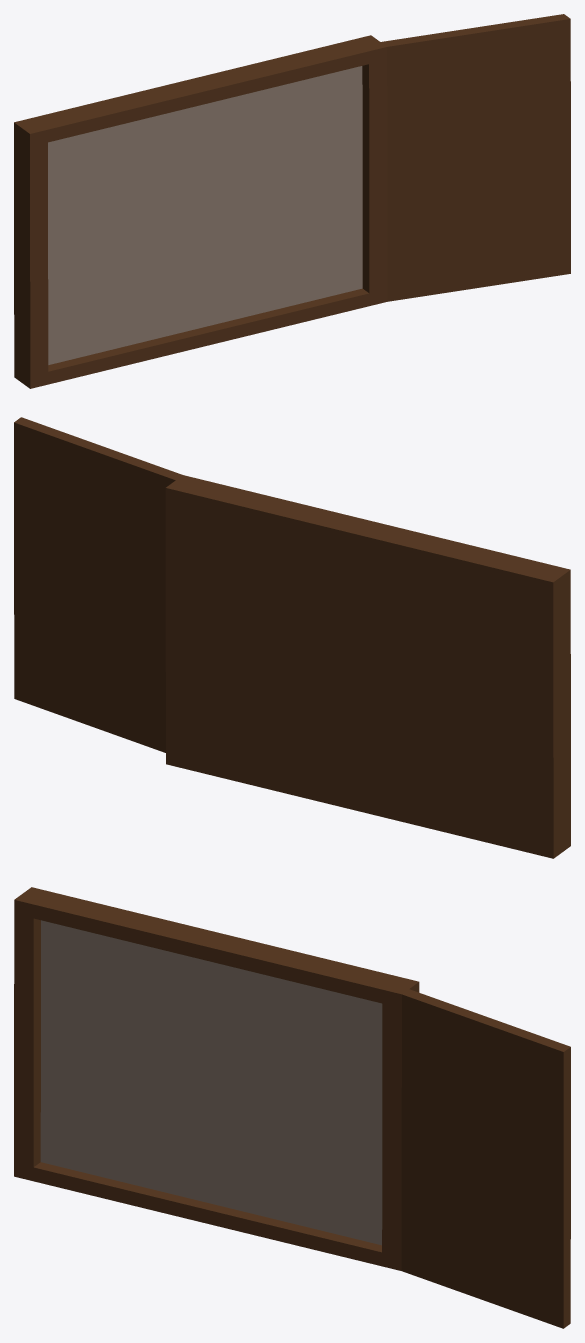
Rendered from Cuadro_3x2.fbx.
3 renders of one model, top to bottom at view 1: azimuth 30°, elevation 25°; view 2: azimuth 150°, elevation 25°; view 3: azimuth 330°, elevation 25°, orthographic. The views are drawn at different scales.
Parts seen in each view (by area): view 1: Cuadro_3x2; view 2: Cuadro_3x2; view 3: Cuadro_3x2.
Boxes of the visible parts, x1,y1,x2,y2 form: Cuadro_3x2: (14, 14, 570, 388); Cuadro_3x2: (14, 417, 570, 858); Cuadro_3x2: (14, 887, 570, 1328).
Bounding box in the file's own units: 6450 × 3002 × 716.
1 material, 1 textured.
